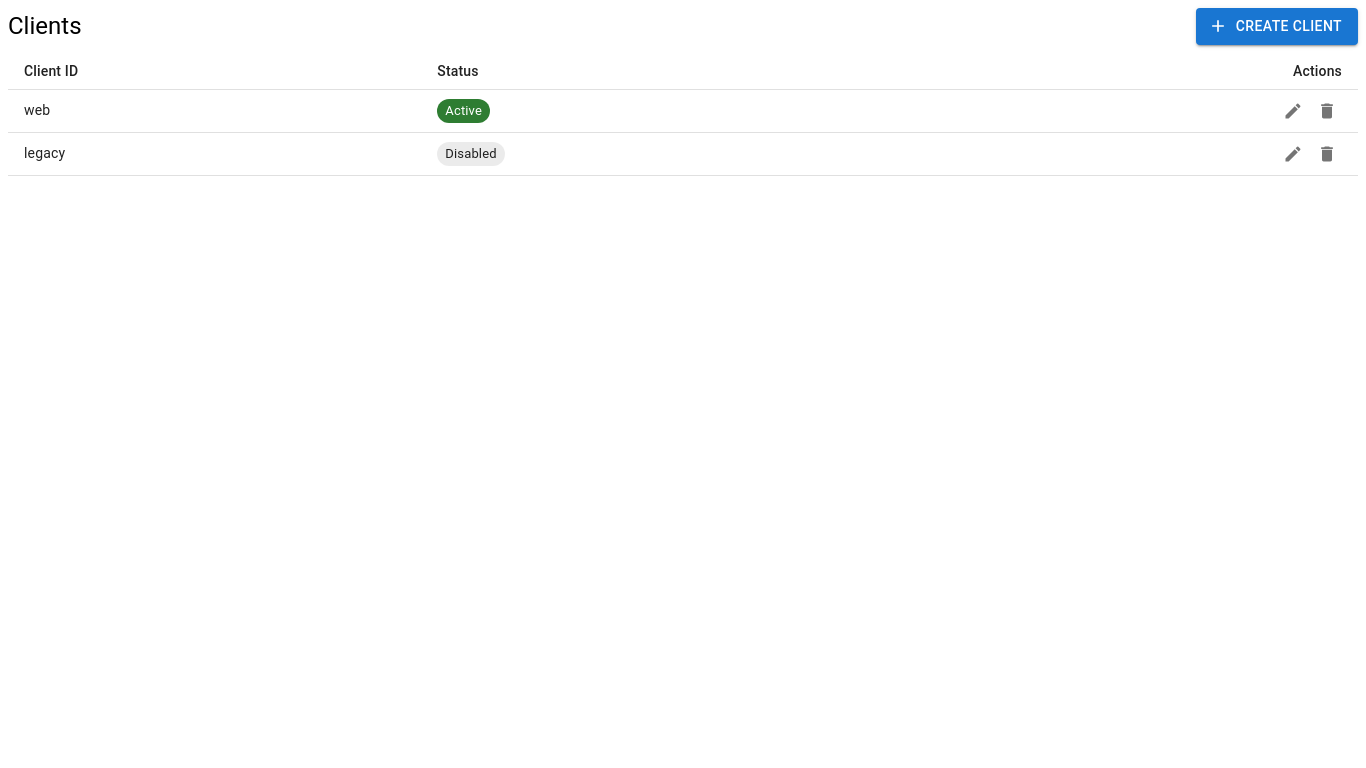
Test: ClientsPage (tenant-scoped CRUD wiring) › prefills the edit form from a disabled client and discards it on cancel
Click the button with test id "client-edit-legacy": (1293, 154) [1278, 138, 1308, 168]
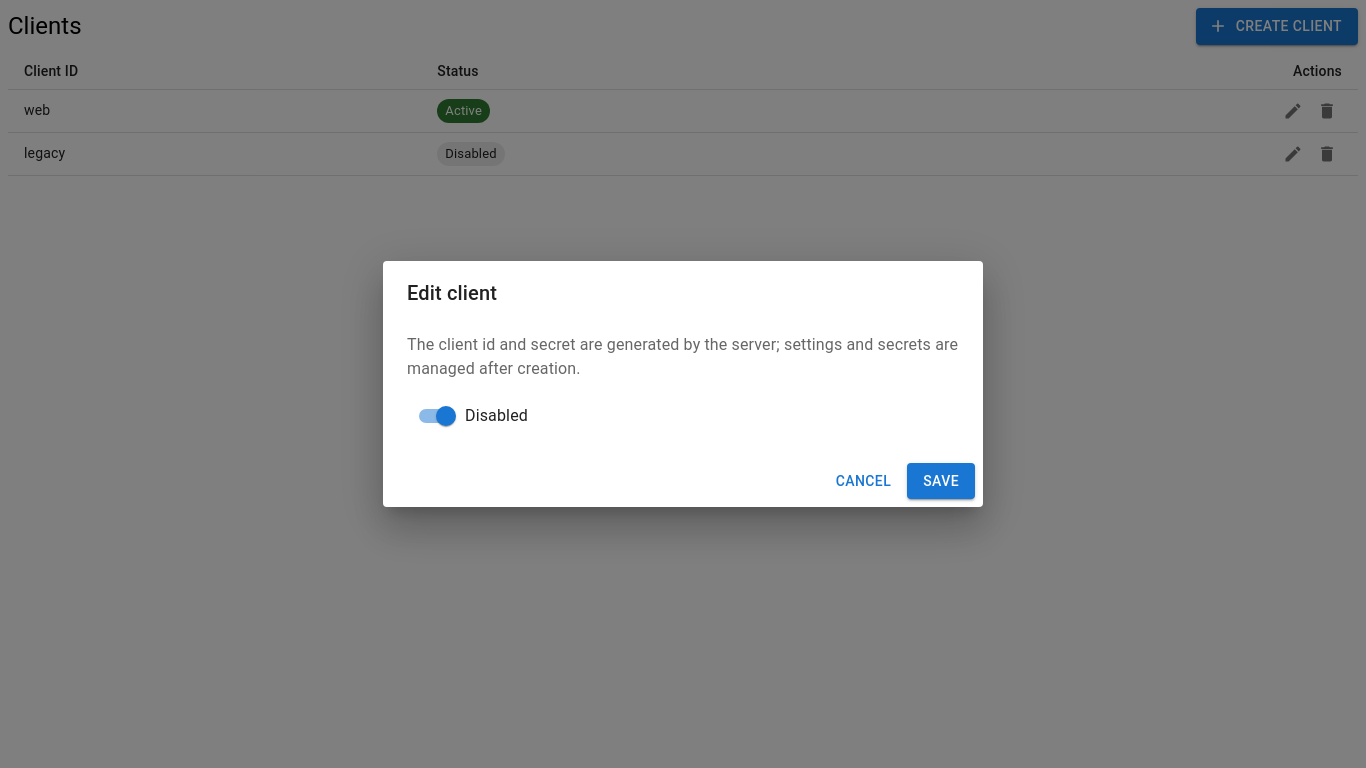
Now the switch labelled "Disabled" is checked, box [419, 406, 528, 426]
Click the button with test id "client-form-cancel": (863, 481) [828, 463, 899, 499]
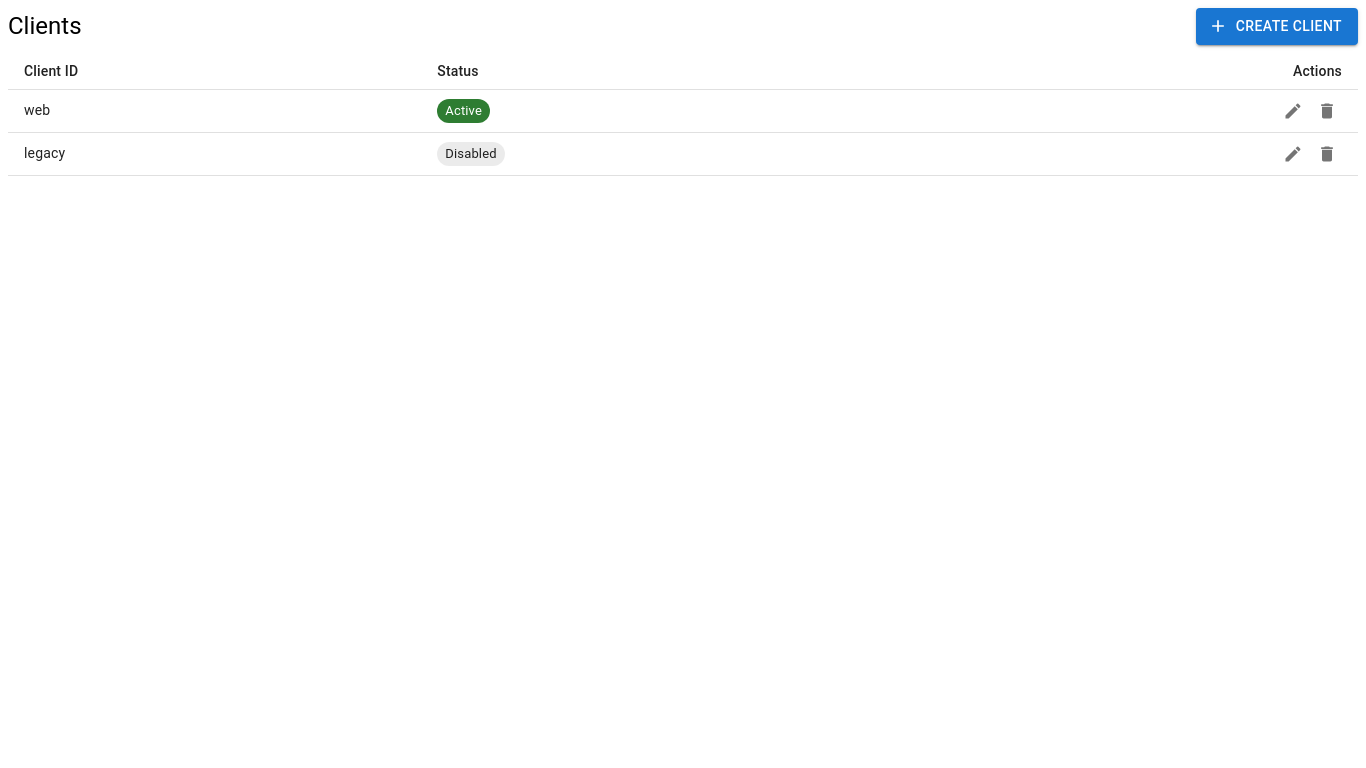
Now the button with test id "client-form-submit" is gone
